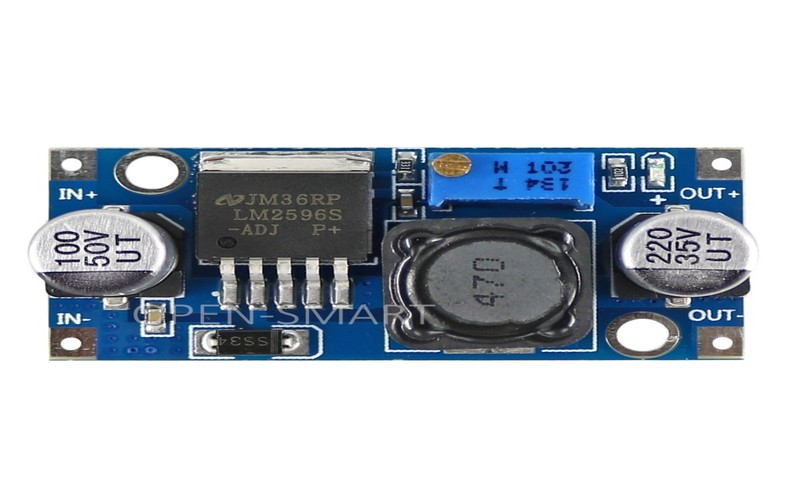Regulator: (26, 128, 756, 374)
